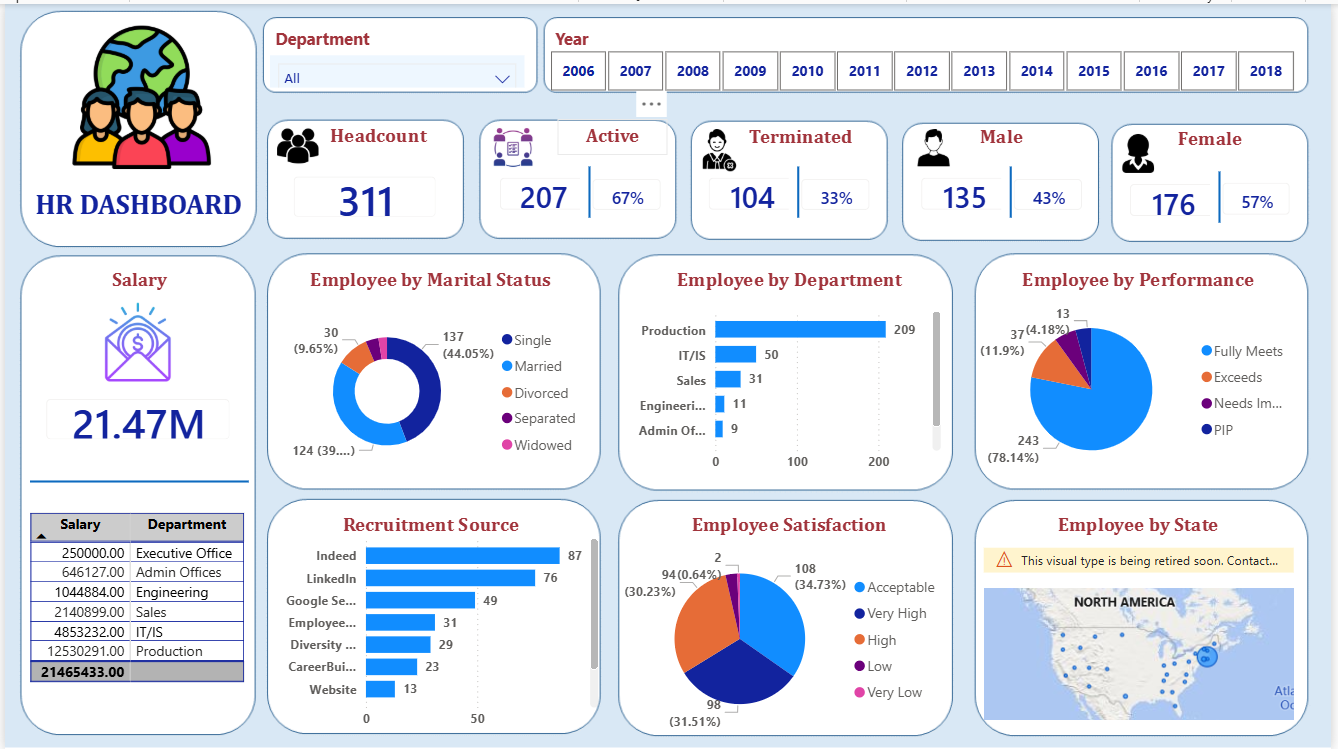

The dashboard page shown, as its layout file describes it:
{"tool":"powerbi","page":{"name":"Page 1","canvas":[1280,720],"ordinal":0},"visuals":[{"type":"image","box":[63.1,16.5,138.6,146.8],"z":0},{"type":"textbox","box":[24.7,172.9,211.3,42.5],"z":1000},{"type":"textbox","box":[255.2,16.5,245.6,32.9],"z":2000},{"type":"slicer","fields":{"Values":["HRData.Department"]},"box":[255.2,49.4,245.6,31.6],"z":3000},{"type":"textbox","box":[525.6,16.5,79.6,32.9],"z":4000},{"type":"textbox","box":[308.8,111,131.5,35],"z":5000},{"type":"textbox","box":[533.2,111,106.2,35],"z":6000},{"type":"textbox","box":[713,112.2,136.3,35],"z":7000},{"type":"textbox","box":[875.5,112.5,171.5,34.3],"z":8000},{"type":"textbox","box":[1077.2,113.9,171.5,34.3],"z":9000},{"type":"textbox","box":[255.2,249.7,310.1,34.3],"z":10000},{"type":"textbox","box":[602.4,249.7,310.1,34.3],"z":11000},{"type":"textbox","box":[938.6,249.7,310.1,34.3],"z":12000},{"type":"textbox","box":[255.2,485.8,310.1,34.3],"z":13000},{"type":"textbox","box":[602.4,485.8,310.1,34.3],"z":14000},{"type":"textbox","box":[938.6,485.8,310.1,34.3],"z":15000},{"type":"textbox","box":[24.7,249.7,211.3,34.3],"z":16000},{"type":"slicer","fields":{"Values":["HRData.Hiring year"]},"box":[500.9,38.4,767.1,52.1],"z":17000},{"type":"cardVisual","fields":{"Data":["All Measures.Headcount"]},"box":[261.8,149.6,171.3,73.6],"z":18000},{"type":"group","id":"g1","title":"Group 1","box":[461.1,150.9,189.4,65.9],"z":19000},{"type":"cardVisual","fields":{"Data":["All Measures.Active"]},"box":[461.1,150.9,116.6,65.9],"z":20000,"group":"g1"},{"type":"group","id":"g2","title":"Group 1","box":[662.8,150.9,189.4,65.9],"z":20000},{"type":"cardVisual","fields":{"Data":["All Measures.Terminated"]},"box":[662.8,150.9,116.6,65.9],"z":20000,"group":"g2"},{"type":"cardVisual","fields":{"Data":["All Measures.Male"]},"box":[867.2,150.9,116.6,65.9],"z":20000,"group":"g4"},{"type":"cardVisual","fields":{"Data":["All Measures.Female"]},"box":[1069,156.4,116.6,65.9],"z":20000,"group":"g3"},{"type":"cardVisual","fields":{"Data":["All Measures.Active %"]},"box":[550.3,152.3,100.2,64.5],"z":21000,"group":"g1"},{"type":"cardVisual","fields":{"Data":["All Measures.Terminated %"]},"box":[752,152.3,100.2,64.5],"z":21000,"group":"g2"},{"type":"cardVisual","fields":{"Data":["All Measures.Male %"]},"box":[956.4,152.3,100.2,64.5],"z":21000,"group":"g4"},{"type":"group","id":"g3","title":"Group 1","box":[1069,155.8,189.6,66.5],"z":21000},{"type":"cardVisual","fields":{"Data":["All Measures.Female %"]},"box":[1158.9,155.8,99.8,65.6],"z":21000,"group":"g3"},{"type":"group","id":"g4","title":"Group 1","box":[867.2,150.9,189.4,65.9],"z":22000},{"type":"shape","box":[533.8,156.4,61.7,49.4],"z":22000,"group":"g1"},{"type":"shape","box":[735.5,156.4,61.7,49.4],"z":22000,"group":"g2"},{"type":"shape","box":[939.9,156.4,61.7,49.4],"z":22000,"group":"g4"},{"type":"shape","box":[1141.7,161.9,61.7,49.4],"z":22000,"group":"g3"},{"type":"donutChart","fields":{"Y":["All Measures.Headcount"],"Category":["HRData.MaritalStatus"]},"box":[255.1,299.3,310.7,149.7],"z":23000},{"type":"clusteredBarChart","fields":{"Y":["All Measures.Headcount"],"Category":["HRData.Department"]},"box":[594.4,283.7,313.6,176.7],"z":24000},{"type":"pieChart","fields":{"Y":["All Measures.Headcount"],"Category":["HRData.PerformanceScore"]},"box":[939,284,310,177],"z":25000},{"type":"clusteredBarChart","fields":{"Y":["All Measures.Headcount"],"Category":["HRData.RecruitmentSource"]},"box":[254.6,503.1,323.3,205.1],"z":26000},{"type":"pieChart","fields":{"Y":["All Measures.Headcount"],"Category":["HRData.Satisfaction Status"]},"box":[594.8,517.6,317.3,190.6],"z":27000},{"type":"cardVisual","fields":{"Data":["All Measures.Salary"]},"box":[22.9,364.3,211.1,73.6],"z":28000},{"type":"shape","box":[24.1,386.1,211.1,149.6],"z":29000},{"type":"tableEx","fields":{"Values":["All Measures.Salary","HRData.Department"]},"box":[18.1,486.2,219.6,181],"z":30000},{"type":"image","box":[875.9,120.6,41,36.2],"z":31000},{"type":"image","box":[1074.9,120.6,37.4,47.1],"z":32000},{"type":"image","box":[666,120.6,47.1,41],"z":33000},{"type":"image","box":[261.8,117,41,39.8],"z":34000},{"type":"image","box":[460.9,117,59.1,41],"z":35000},{"type":"map","fields":{"Size":["All Measures.Headcount"],"Category":["HRData.State"]},"box":[939.8,520,308.8,170.1],"z":36000},{"type":"image","box":[47.1,288.3,161.7,76],"z":37000}]}

Visuals, with their boxes in screenshot pixels (x1, y1, x2, y2), scaled from the page's 1280x720 canvas onto the 1338x749 screenshot:
image: <box>66,17,211,170</box>
textbox: <box>26,180,247,224</box>
textbox: <box>267,17,523,51</box>
slicer - HRData.Department: <box>267,51,523,84</box>
textbox: <box>549,17,633,51</box>
textbox: <box>323,115,460,152</box>
textbox: <box>557,115,668,152</box>
textbox: <box>745,117,888,153</box>
textbox: <box>915,117,1094,153</box>
textbox: <box>1126,118,1305,154</box>
textbox: <box>267,260,591,295</box>
textbox: <box>630,260,954,295</box>
textbox: <box>981,260,1305,295</box>
textbox: <box>267,505,591,541</box>
textbox: <box>630,505,954,541</box>
textbox: <box>981,505,1305,541</box>
textbox: <box>26,260,247,295</box>
slicer - HRData.Hiring year: <box>524,40,1325,94</box>
cardVisual - All Measures.Headcount: <box>274,156,453,232</box>
"Group 1" group: <box>482,157,680,226</box>
cardVisual - All Measures.Active: <box>482,157,604,226</box>
"Group 1" group: <box>693,157,891,226</box>
cardVisual - All Measures.Terminated: <box>693,157,815,226</box>
cardVisual - All Measures.Male: <box>906,157,1028,226</box>
cardVisual - All Measures.Female: <box>1117,163,1239,231</box>
cardVisual - All Measures.Active %: <box>575,158,680,226</box>
cardVisual - All Measures.Terminated %: <box>786,158,891,226</box>
cardVisual - All Measures.Male %: <box>1000,158,1104,226</box>
"Group 1" group: <box>1117,162,1316,231</box>
cardVisual - All Measures.Female %: <box>1211,162,1316,230</box>
"Group 1" group: <box>906,157,1104,226</box>
shape: <box>558,163,622,214</box>
shape: <box>769,163,833,214</box>
shape: <box>982,163,1047,214</box>
shape: <box>1193,168,1258,220</box>
donutChart - All Measures.Headcount x HRData.MaritalStatus: <box>267,311,591,467</box>
clusteredBarChart - All Measures.Headcount x HRData.Department: <box>621,295,949,479</box>
pieChart - All Measures.Headcount x HRData.PerformanceScore: <box>982,295,1306,480</box>
clusteredBarChart - All Measures.Headcount x HRData.RecruitmentSource: <box>266,523,604,737</box>
pieChart - All Measures.Headcount x HRData.Satisfaction Status: <box>622,538,953,737</box>
cardVisual - All Measures.Salary: <box>24,379,245,456</box>
shape: <box>25,402,246,557</box>
tableEx - All Measures.Salary x HRData.Department: <box>19,506,248,694</box>
image: <box>916,125,958,163</box>
image: <box>1124,125,1163,174</box>
image: <box>696,125,745,168</box>
image: <box>274,122,317,163</box>
image: <box>482,122,544,164</box>
map - All Measures.Headcount x HRData.State: <box>982,541,1305,718</box>
image: <box>49,300,218,379</box>
